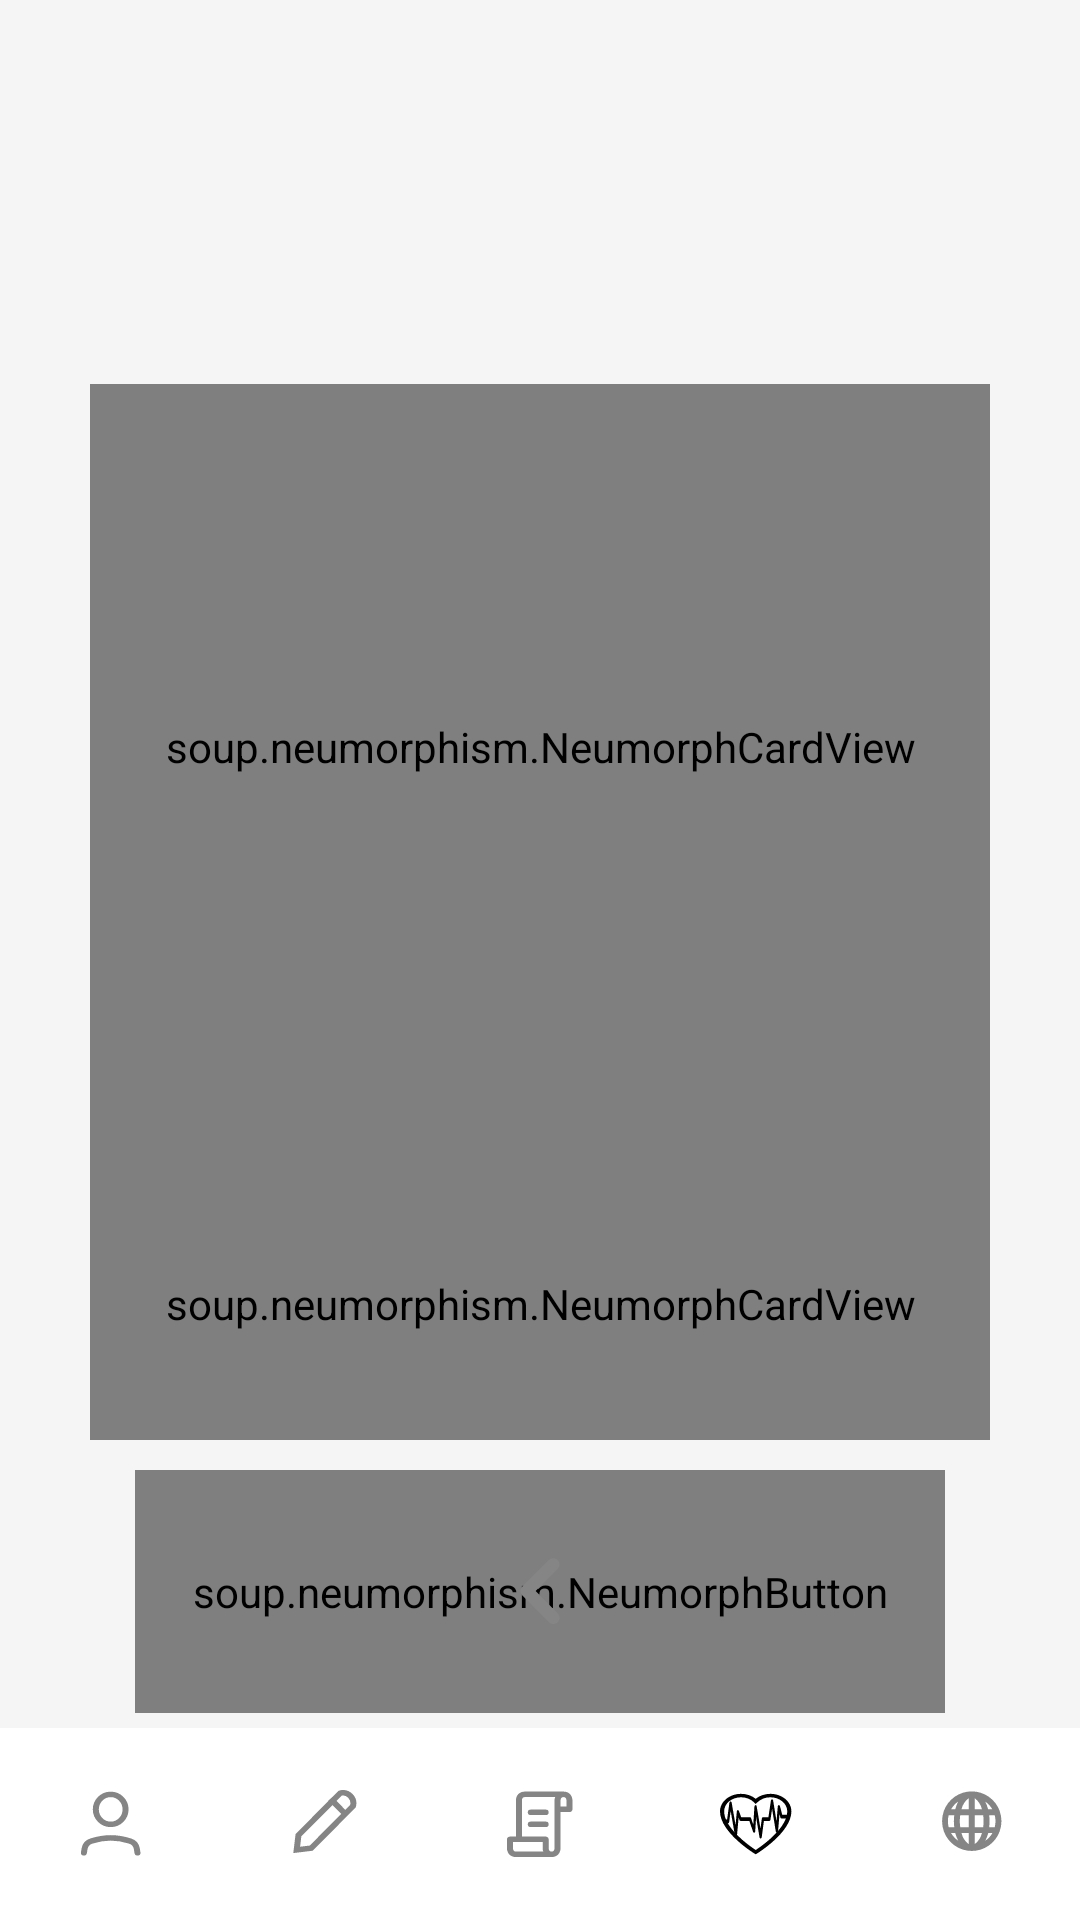

Point at icon controls on the screen. Image size 1080 x 1920, points as point (x, y).
edit: point (325, 1821)
heart: point (756, 1824)
profile: point (111, 1823)
scroll: point (540, 1824)
